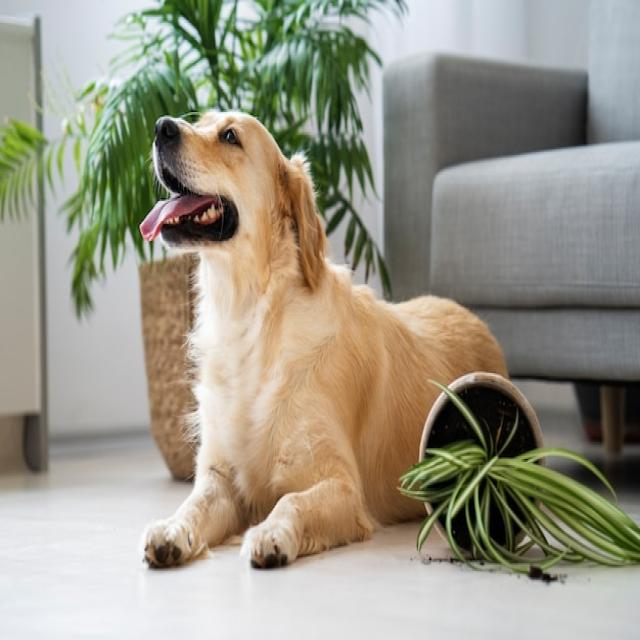Dog: (140, 109, 510, 572)
